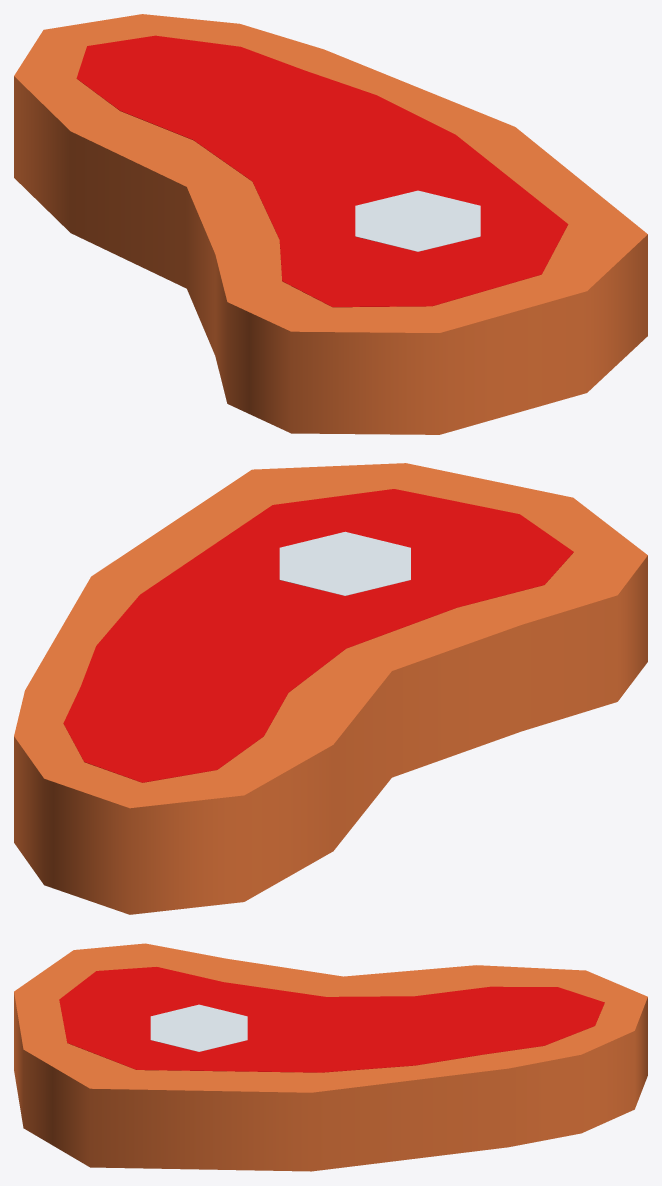
File: thit.FBX
3 views of the same model, one above another, from view 1: azimuth 30°, elevation 25°; view 2: azimuth 150°, elevation 25°; view 3: azimuth 270°, elevation 25° (orthographic). The views are drawn at different scales.
Visible parts, largest first — view 1: Cylinder098; view 2: Cylinder098; view 3: Cylinder098.
Boxes of the visible parts, bbox=[...] form: Cylinder098: bbox=[14, 14, 647, 434]; Cylinder098: bbox=[14, 463, 647, 914]; Cylinder098: bbox=[14, 943, 647, 1171].
Bounding box in the file's own units: 1.28 × 0.3276 × 2.3.
